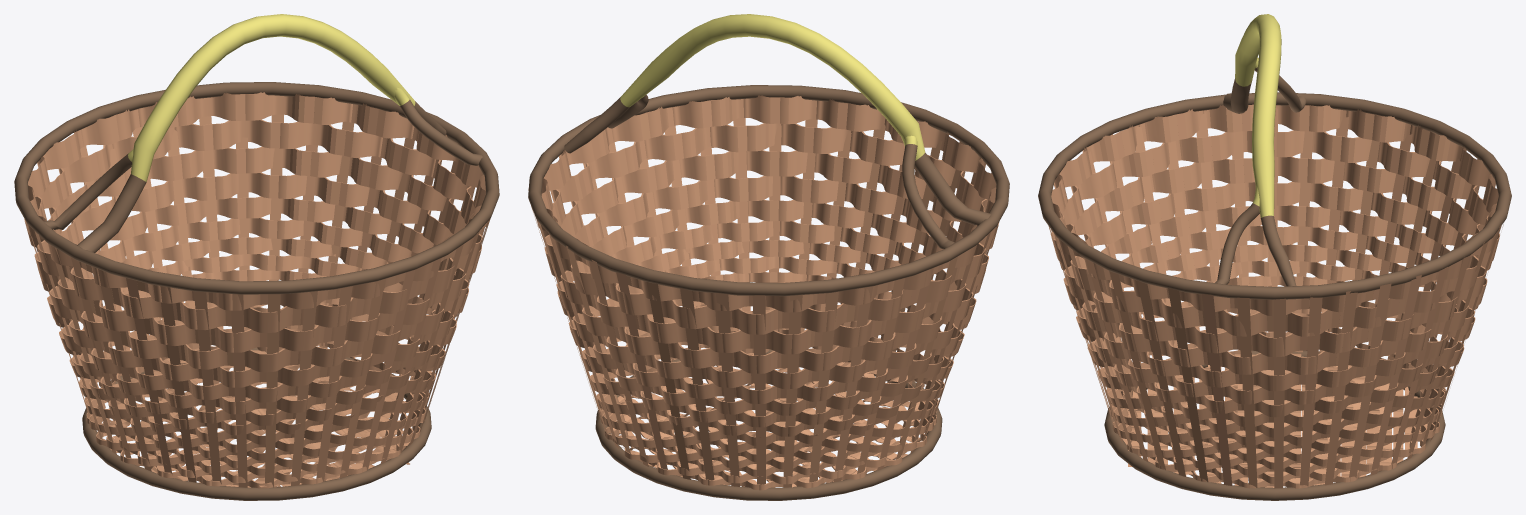
The model's file is reedbasketShort.fbx.
3 views of the same model, side by side, from view 1: azimuth 30°, elevation 25°; view 2: azimuth 150°, elevation 25°; view 3: azimuth 270°, elevation 25° (orthographic). The views are drawn at different scales.
Parts seen in each view (by area): view 1: BézierCurve.002; view 2: BézierCurve.002; view 3: BézierCurve.002.
Boxes of the visible parts, bbox=[...] form: BézierCurve.002: bbox=[14, 14, 499, 500]; BézierCurve.002: bbox=[528, 14, 1009, 500]; BézierCurve.002: bbox=[1038, 14, 1511, 500].
Size of the model in its own units: 172 by 162 by 172.
